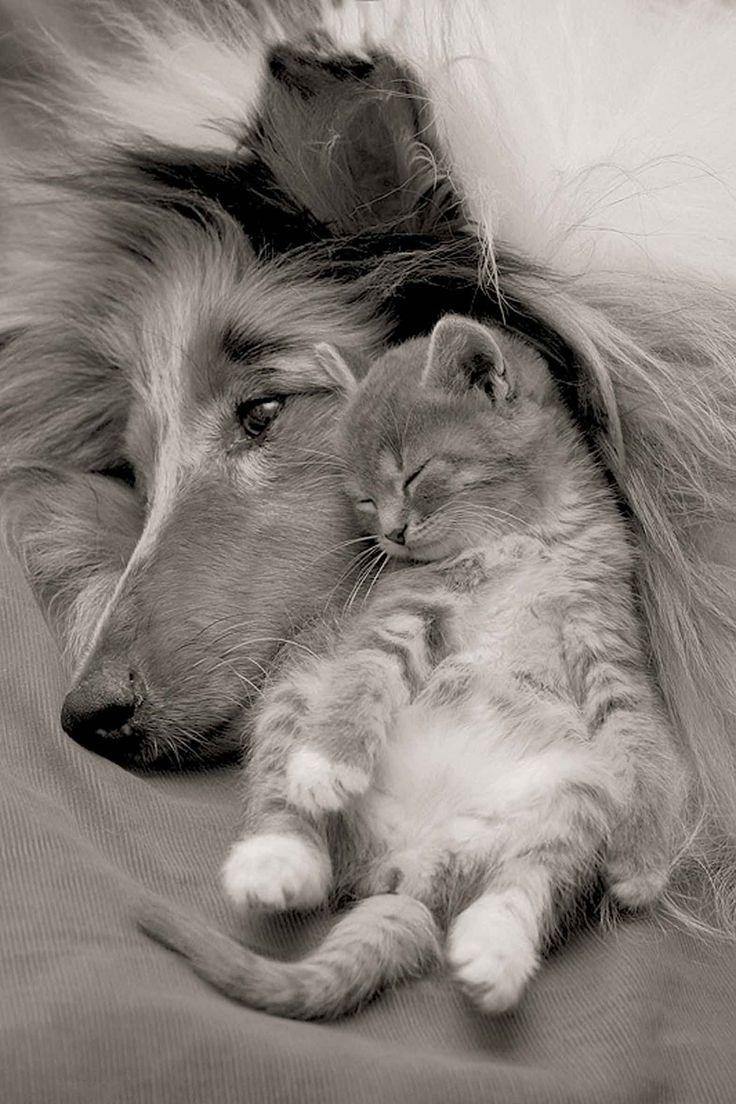kedo: (224, 318, 726, 1010)
